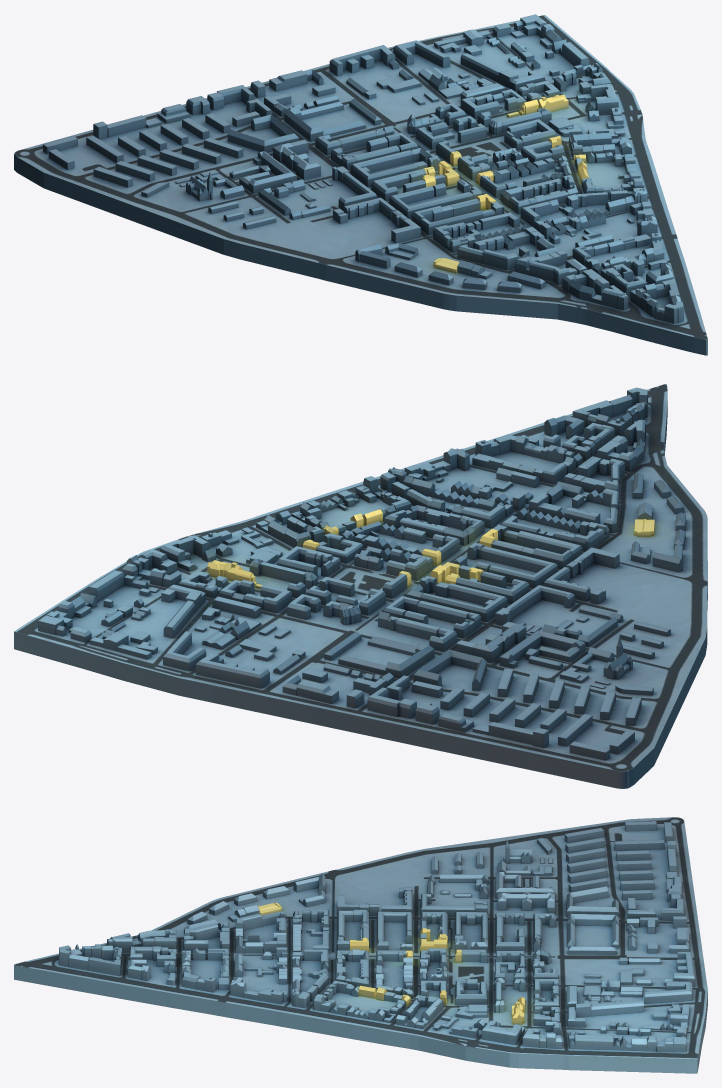
File: Goetheviertel_250812_with-textures_webp15.glb
3 views of the same model, one above another, from view 1: azimuth 30°, elevation 25°; view 2: azimuth 150°, elevation 25°; view 3: azimuth 270°, elevation 25° (orthographic). The views are drawn at different scales.
Visible parts, largest first — view 1: Buildings, Terrain; view 2: Buildings, Terrain; view 3: Terrain, Buildings.
Boxes of the visible parts, x1,y1,x2,y2 form: Buildings: (43, 14, 683, 323); Terrain: (14, 15, 707, 355); Buildings: (38, 387, 685, 760); Terrain: (14, 384, 707, 788); Terrain: (14, 817, 707, 1073); Buildings: (59, 821, 695, 1052).
Size of the model in its own units: 906 by 67.5 by 1099.
Materials: 2 (2 with a texture image).
